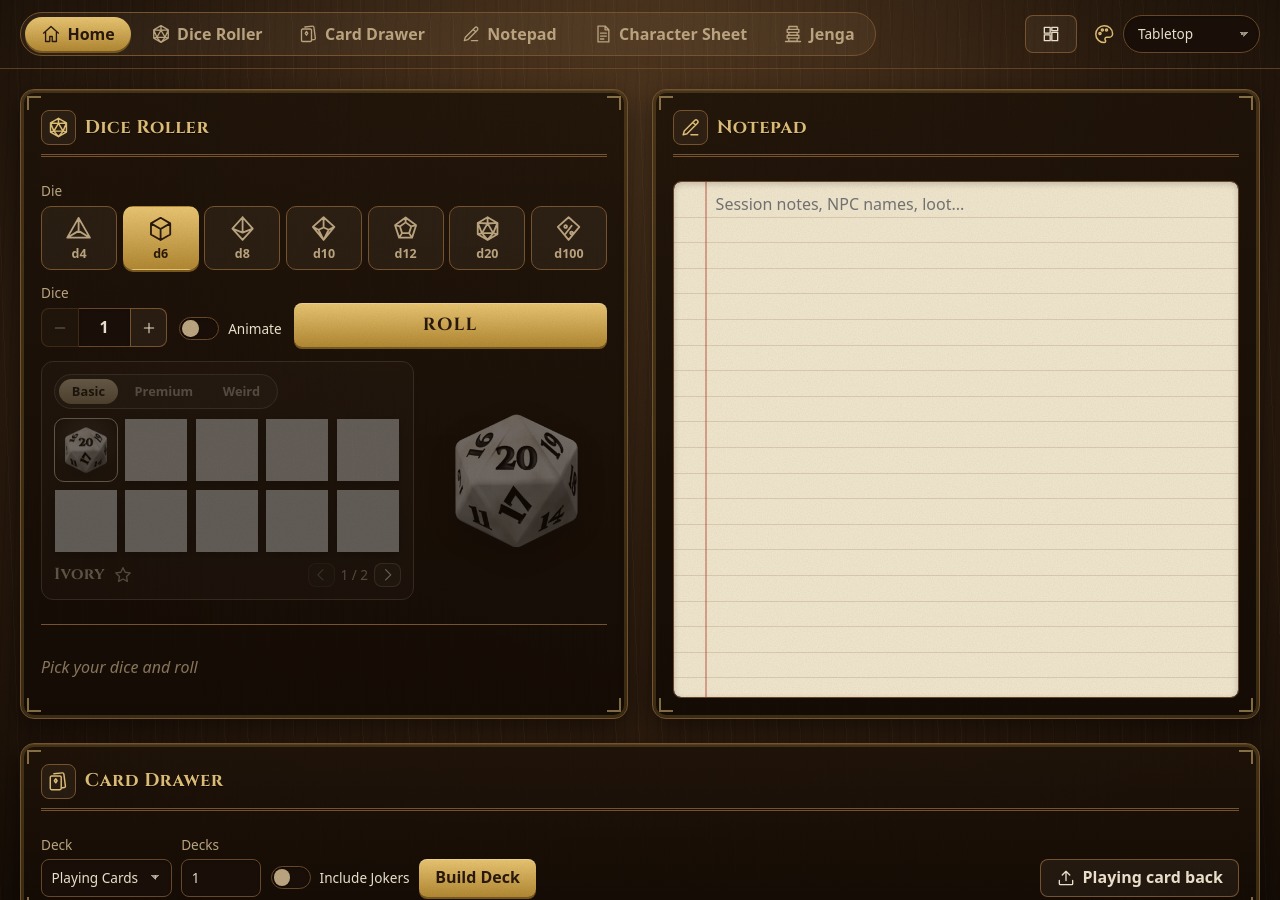
the default Home › keeps its controls only on the Home tab
What coordinates should you click on to do the following:
click the tab "Notepad"
I would click on:
 (509, 34)
Its box is [445, 17, 573, 51].
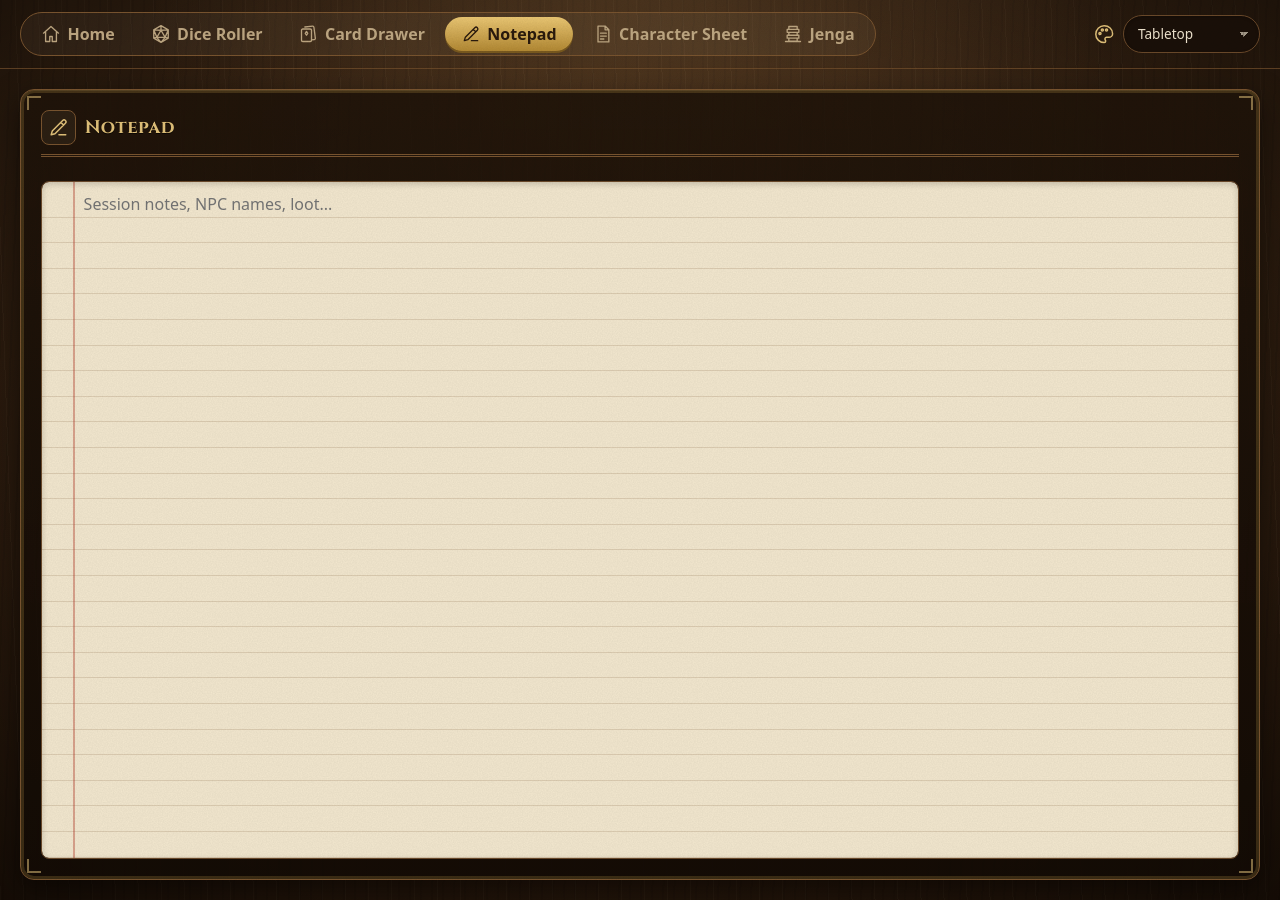
What coordinates should you click on to do the following:
click the tab "Home"
I would click on:
 (78, 34)
Its box is [25, 17, 131, 51].
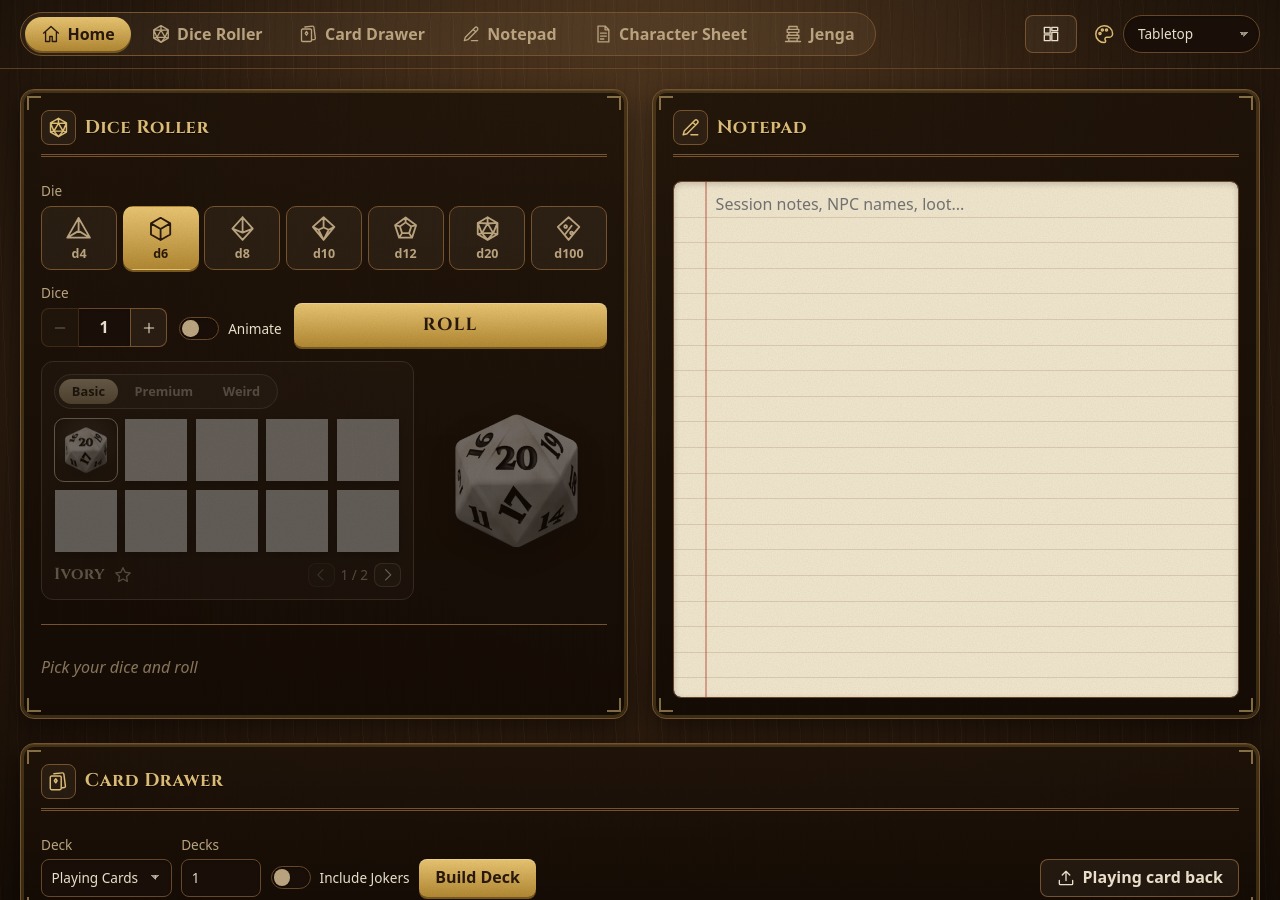
Expected: the button named "Edit layout" is shown, [1025, 15, 1077, 53]
